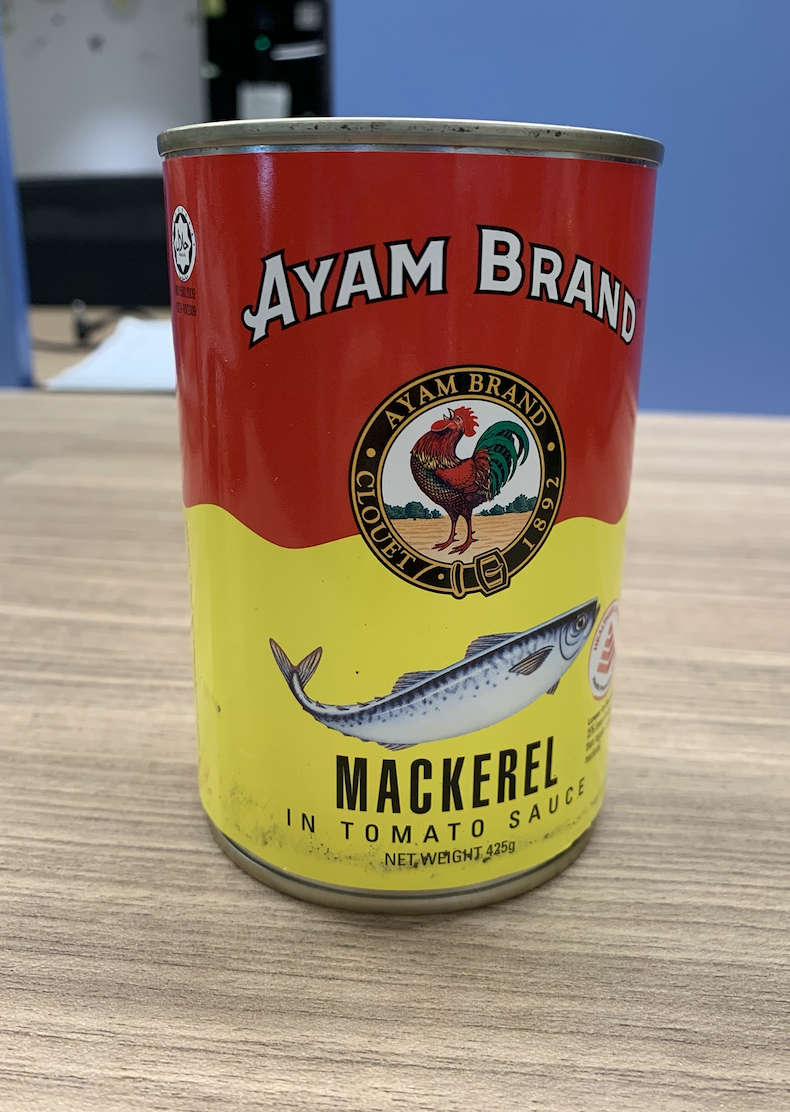sardines_450g: (159, 183, 616, 864)
